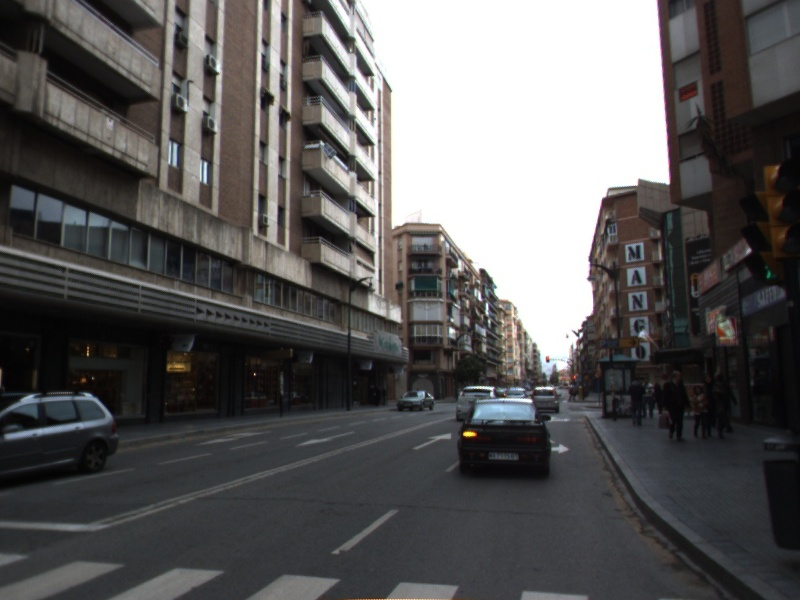STRAIGHT: (411, 430, 453, 451)
